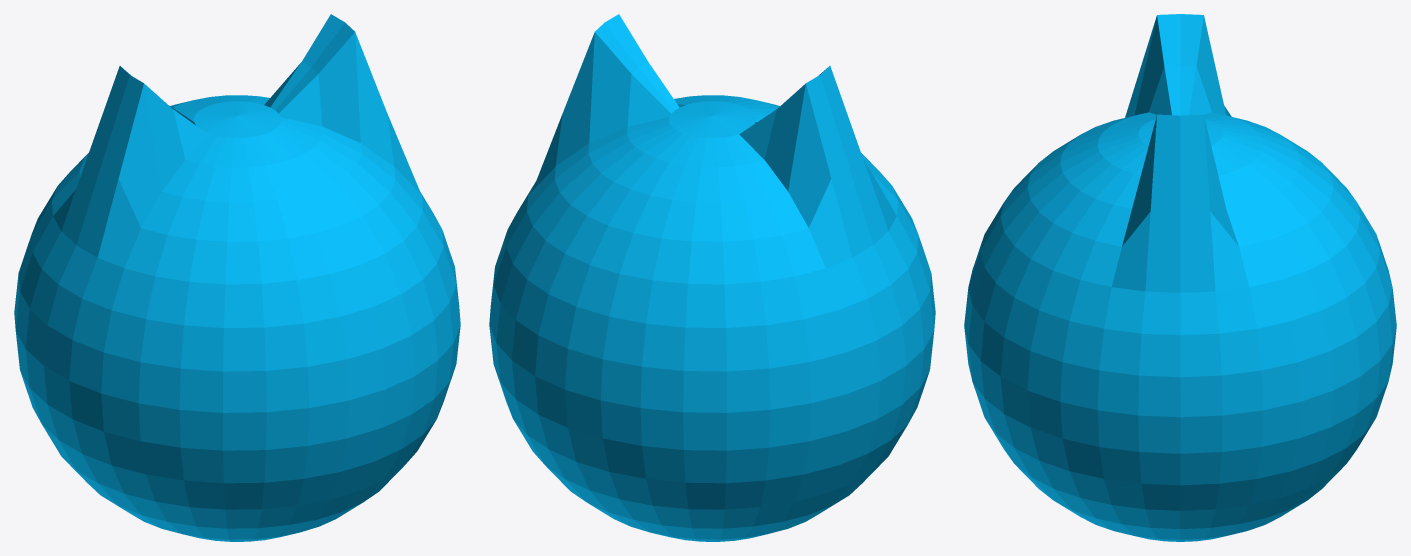
Rendered from doggo-character.gltf.
3 renders of one model, left to right at view 1: azimuth 30°, elevation 25°; view 2: azimuth 150°, elevation 25°; view 3: azimuth 270°, elevation 25°, orthographic. The views are drawn at different scales.
Visible parts, largest first — view 1: Sphere; view 2: Sphere; view 3: Sphere.
Boxes of the visible parts, <box> form: Sphere: <box>14,14,460,541</box>; Sphere: <box>489,14,935,541</box>; Sphere: <box>964,14,1396,541</box>.
Size of the model in its own units: 2 by 2.33 by 2.
